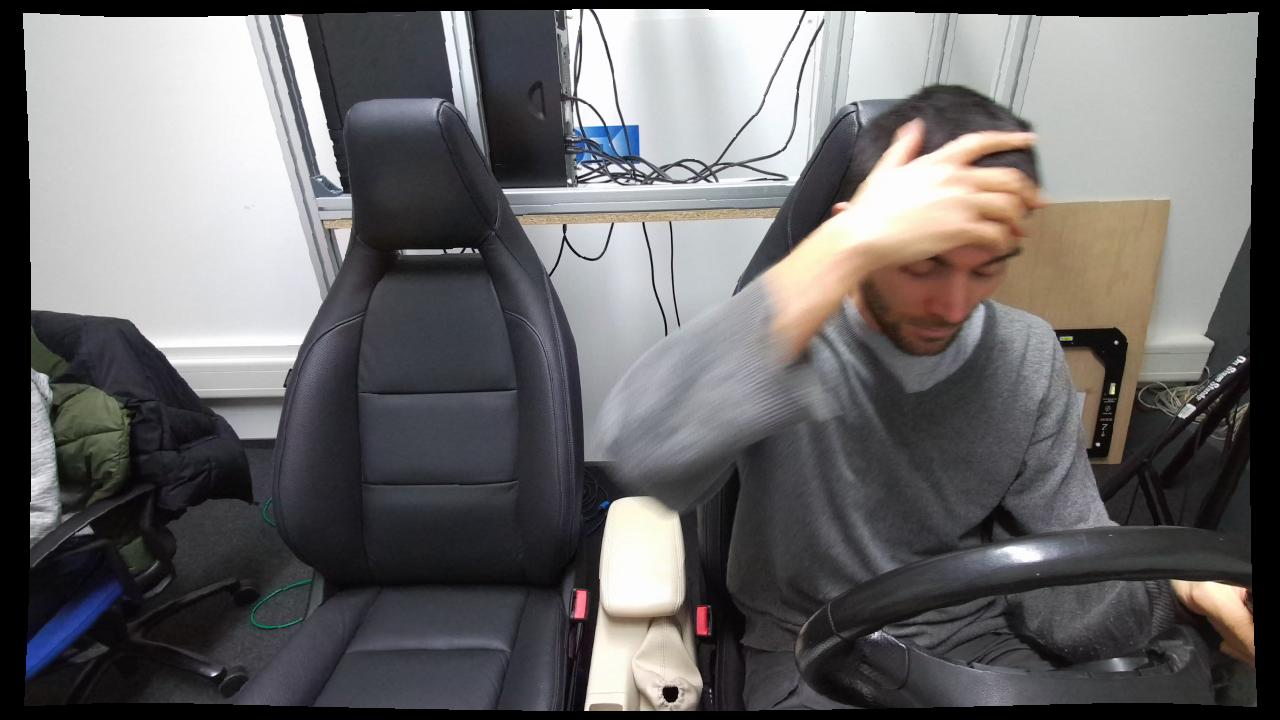Distracted: (588, 78, 1066, 709)
